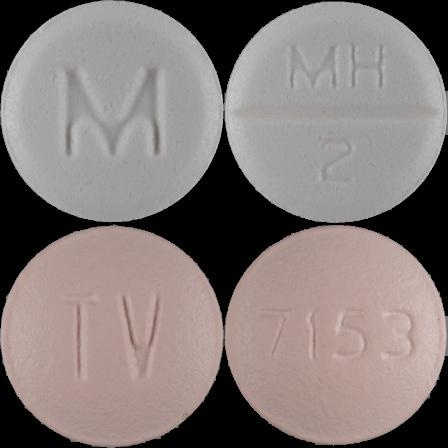51079-453: (0, 0, 224, 224)
